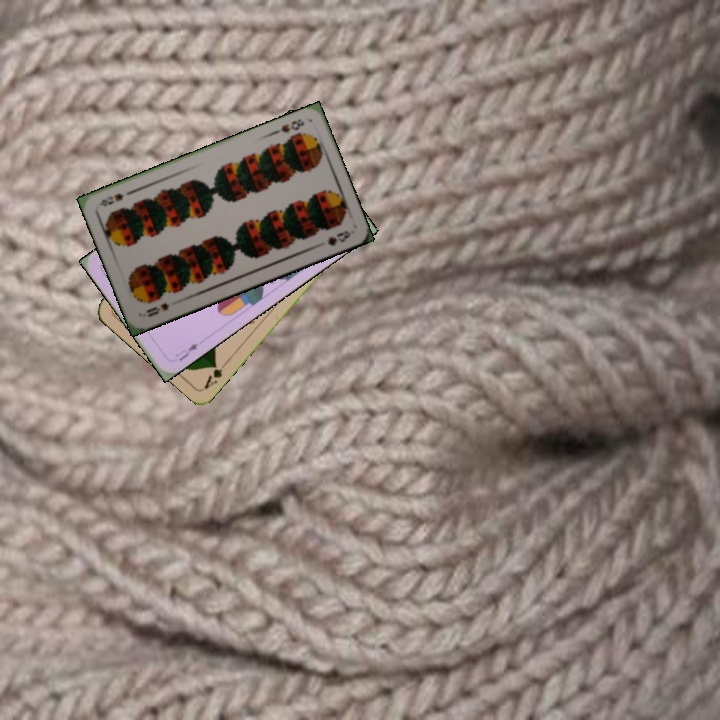EU: (171, 339, 201, 364)
GA: (200, 357, 231, 392)
S8: (270, 115, 307, 137), (142, 299, 172, 320)
